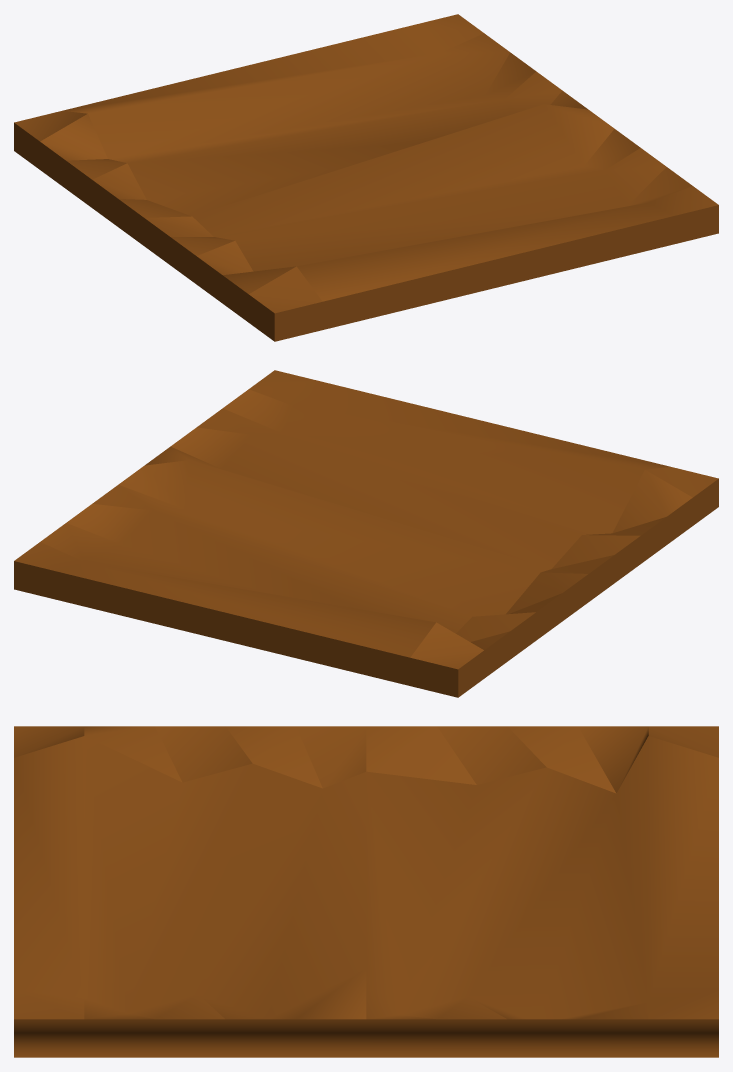
File: farm_unusable.fbx
3 renders of one model, top to bottom at view 1: azimuth 30°, elevation 25°; view 2: azimuth 150°, elevation 25°; view 3: azimuth 270°, elevation 25°, orthographic. The views are drawn at different scales.
Visible parts, largest first — view 1: pCube1; view 2: pCube1; view 3: pCube1.
Part boxes in pixels (bbox=[...]): pCube1: bbox=[14, 14, 718, 341]; pCube1: bbox=[14, 370, 718, 697]; pCube1: bbox=[14, 726, 718, 1057].
Size of the model in its own units: 99.84 by 9.6 by 102.
1 material, 1 textured.
